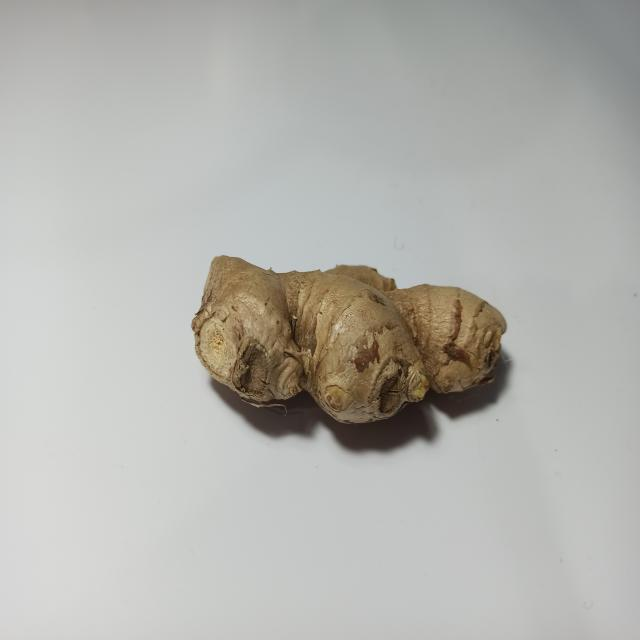ginger: (201, 252, 501, 442)
